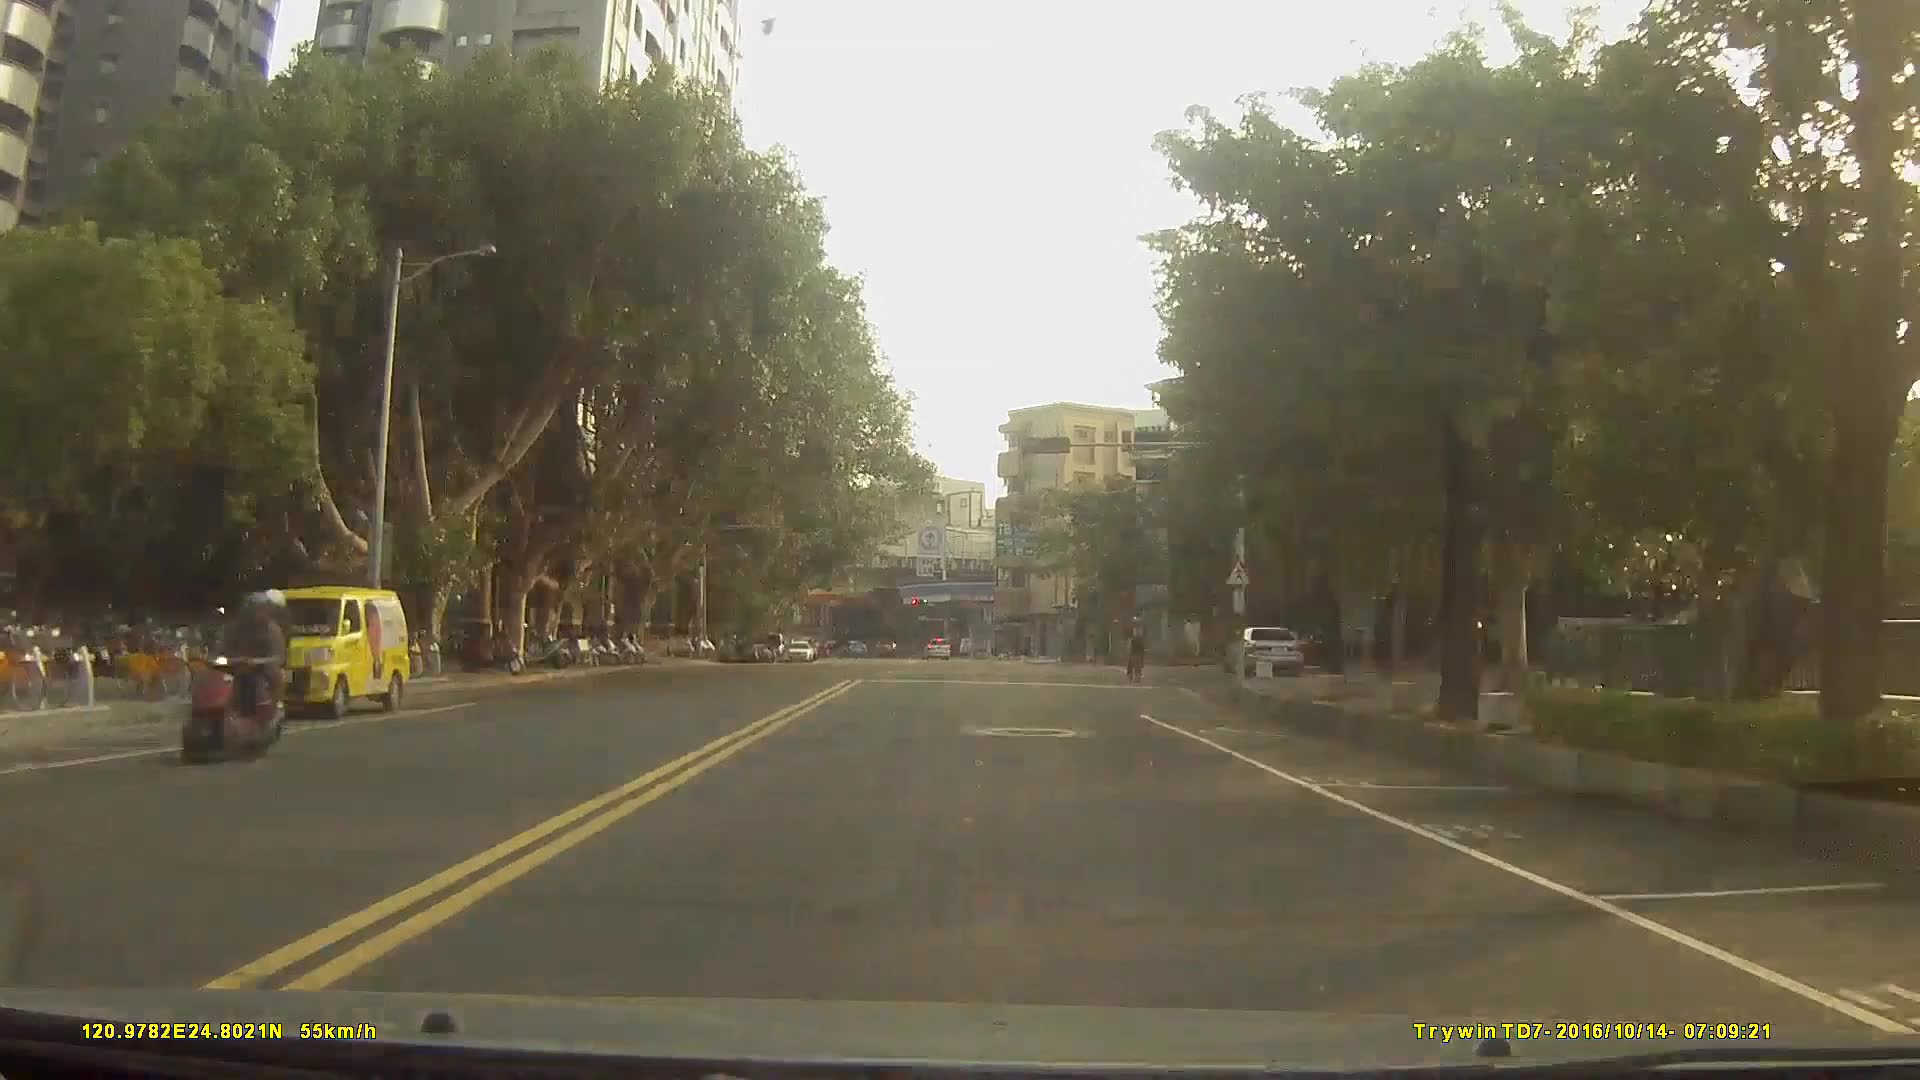pedestrian: (1184, 617, 1207, 682)
rider: (182, 587, 296, 765), (1123, 618, 1150, 680)
vehicle: (1216, 626, 1306, 678), (923, 635, 952, 661), (784, 639, 815, 661)
